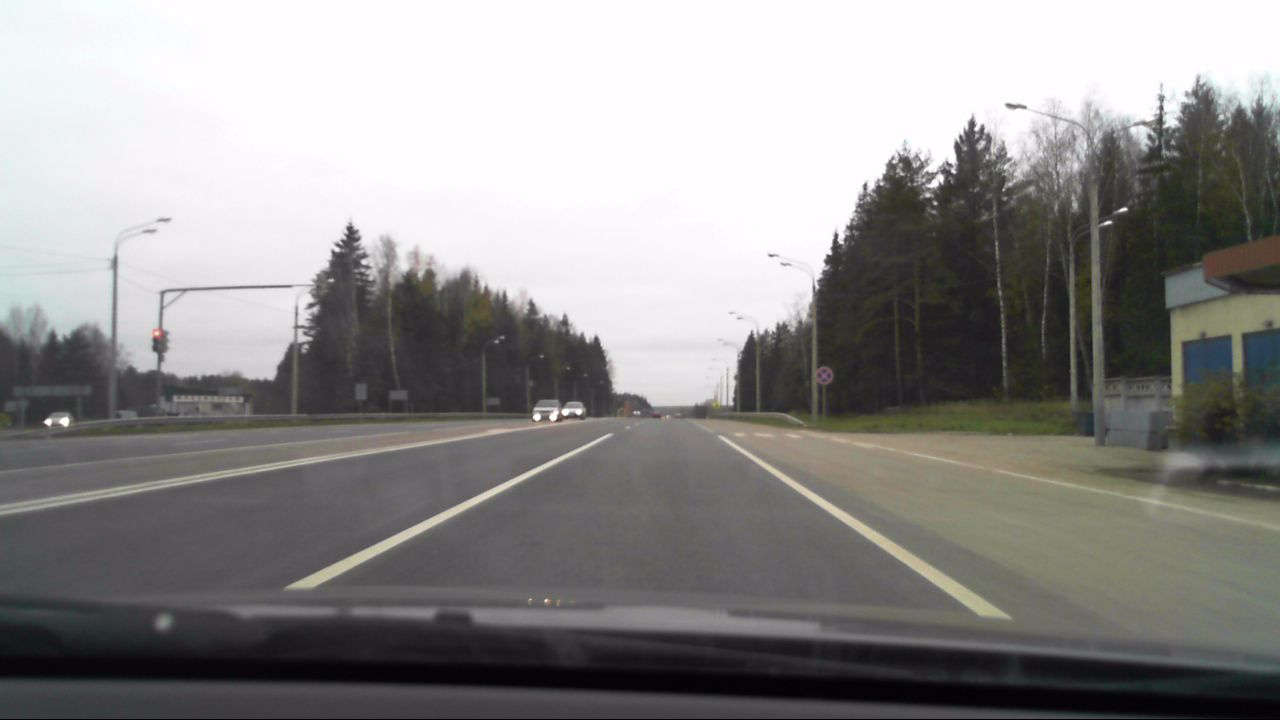No Parking: (813, 363, 835, 387)
